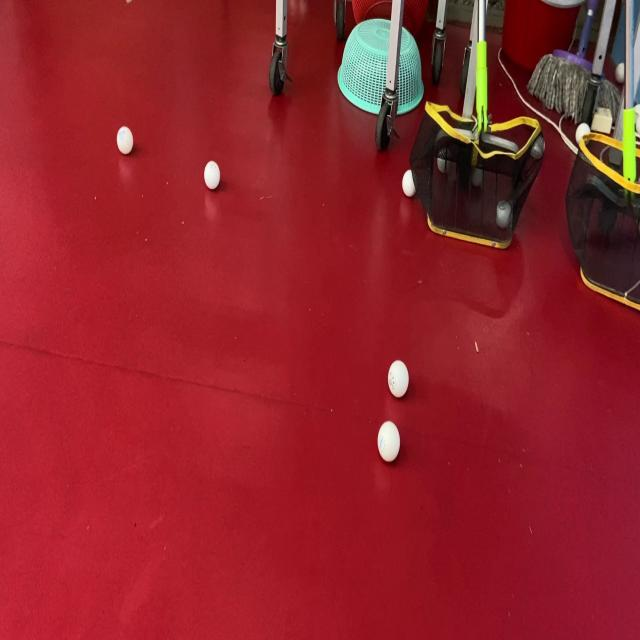ping-pong-ball: (376, 418, 402, 466), (387, 354, 410, 400), (200, 157, 222, 192), (116, 123, 134, 156), (398, 166, 416, 198)
